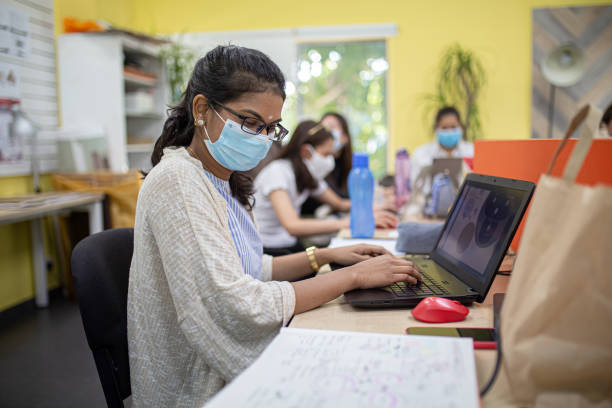with mask: (190, 75, 294, 179), (300, 125, 338, 181), (430, 103, 466, 148)
